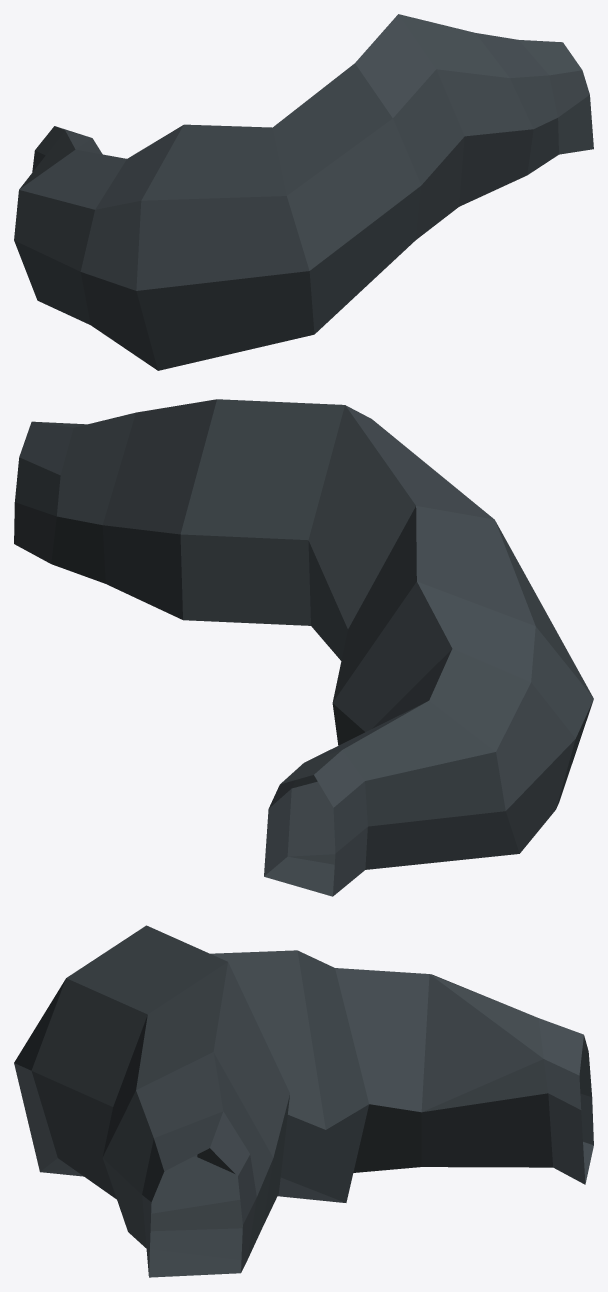
File: Tunnel-B08.fbx
3 renders of one model, top to bottom at view 1: azimuth 30°, elevation 25°; view 2: azimuth 150°, elevation 25°; view 3: azimuth 270°, elevation 25°, orthographic. The views are drawn at different scales.
Parts seen in each view (by area): view 1: Tunnel-B08; view 2: Tunnel-B08; view 3: Tunnel-B08.
Part boxes in pixels (<box>): Tunnel-B08: <box>14,14,593,370</box>; Tunnel-B08: <box>14,399,593,896</box>; Tunnel-B08: <box>14,925,593,1277</box>.
Bounding box in the file's own units: 1061 × 1350 × 758.
